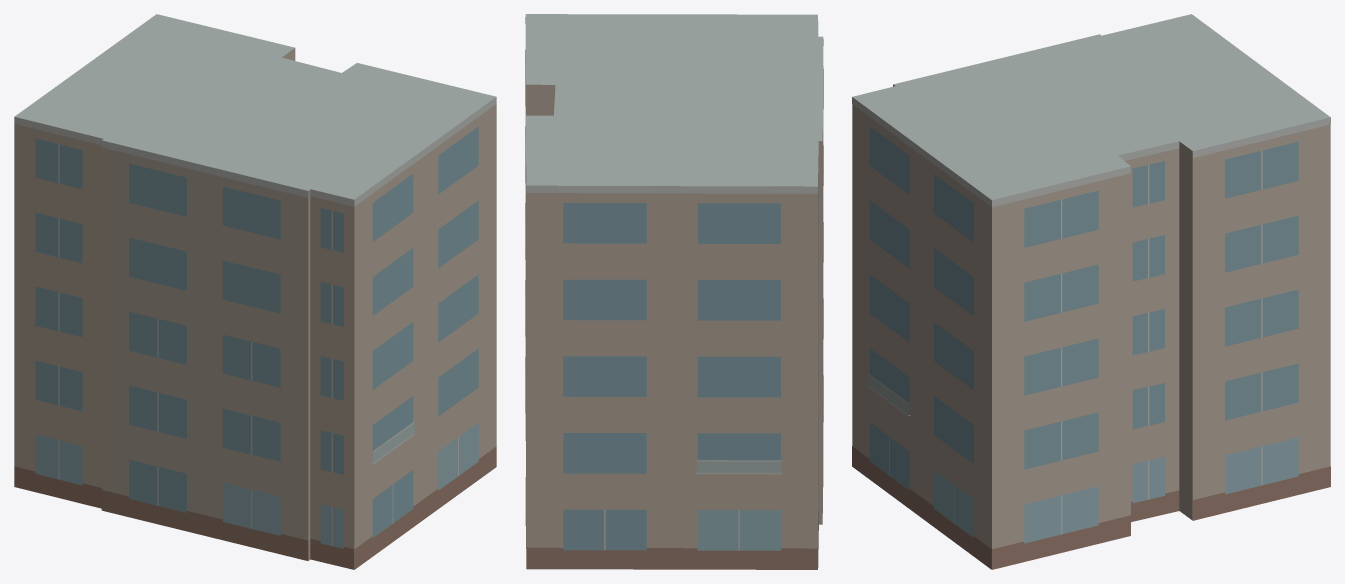
Rendered from survey-upis-32657284.glb.
The picture shows the model from 3 angles, left to right: view 1: azimuth 30°, elevation 25°; view 2: azimuth 150°, elevation 25°; view 3: azimuth 270°, elevation 25°; orthographic projection. The views are drawn at different scales.
Parts seen in each view (by area): view 1: survey-upis-32657284.tmp; view 2: survey-upis-32657284.tmp; view 3: survey-upis-32657284.tmp.
Part boxes in pixels (x1=…): survey-upis-32657284.tmp: x1=14, y1=14, x2=496, y2=569; survey-upis-32657284.tmp: x1=525, y1=14, x2=823, y2=569; survey-upis-32657284.tmp: x1=852, y1=14, x2=1330, y2=569.
Bounding box in the file's own units: 13.84 × 12.8 × 15.03.
